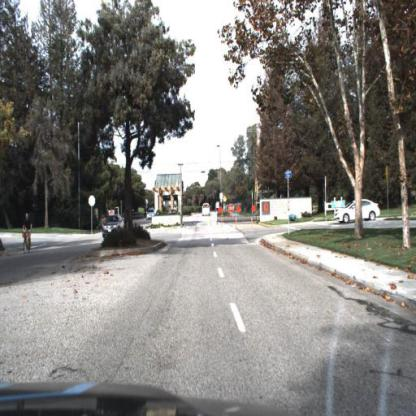biker: (23, 211, 33, 255)
car: (332, 195, 384, 225), (333, 199, 384, 225), (102, 213, 125, 244), (101, 214, 123, 240), (202, 202, 212, 218), (203, 202, 213, 218), (148, 207, 157, 222)
